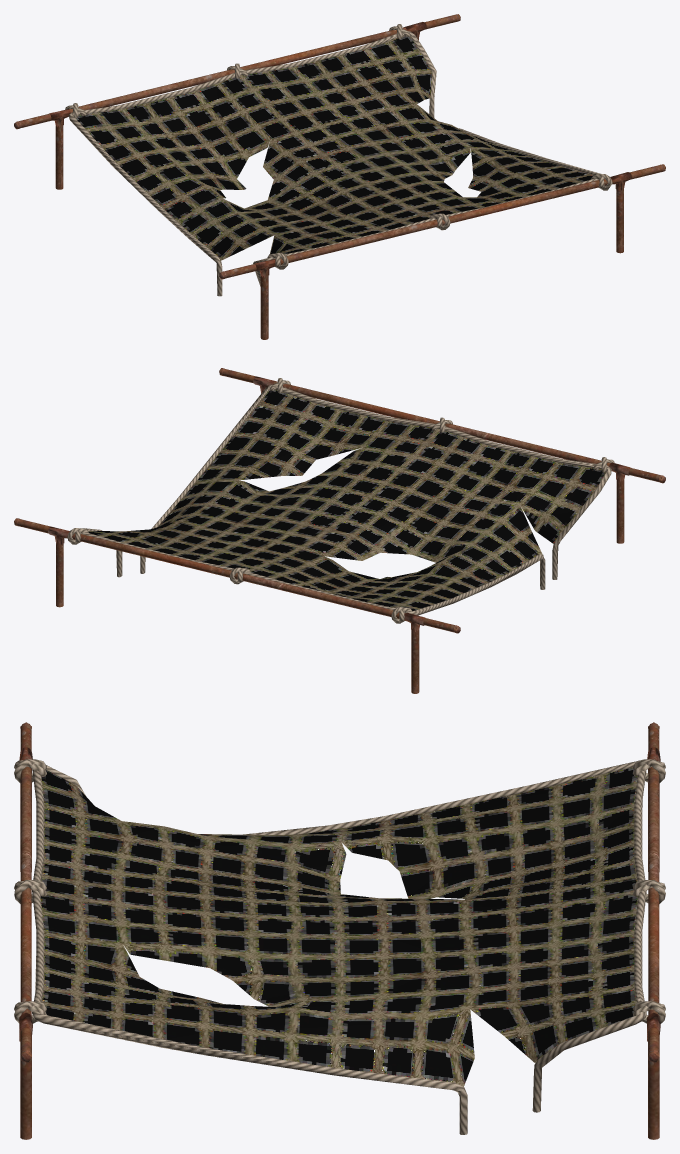
Rendered from rope_bridge_300.glb.
3 renders of one model, top to bottom at view 1: azimuth 30°, elevation 25°; view 2: azimuth 150°, elevation 25°; view 3: azimuth 270°, elevation 25°, orthographic. The views are drawn at different scales.
Parts seen in each view (by area): view 1: rope_bridge_300_LOD0, rope_bridge_anchor_350 (×2); view 2: rope_bridge_300_LOD0, rope_bridge_anchor_350 (×2); view 3: rope_bridge_300_LOD0, rope_bridge_anchor_350 (×2).
Part boxes in pixels (x1,y1,x2,y2): rope_bridge_300_LOD0: (65, 24, 612, 296); rope_bridge_anchor_350 (×2): (14, 14, 665, 339); rope_bridge_300_LOD0: (67, 378, 614, 623); rope_bridge_anchor_350 (×2): (14, 368, 665, 693); rope_bridge_300_LOD0: (14, 759, 665, 1134); rope_bridge_anchor_350 (×2): (19, 722, 660, 1139).
Bounding box in the file's own units: 3.93 × 0.8635 × 3.25.
3 materials, 3 textured.
